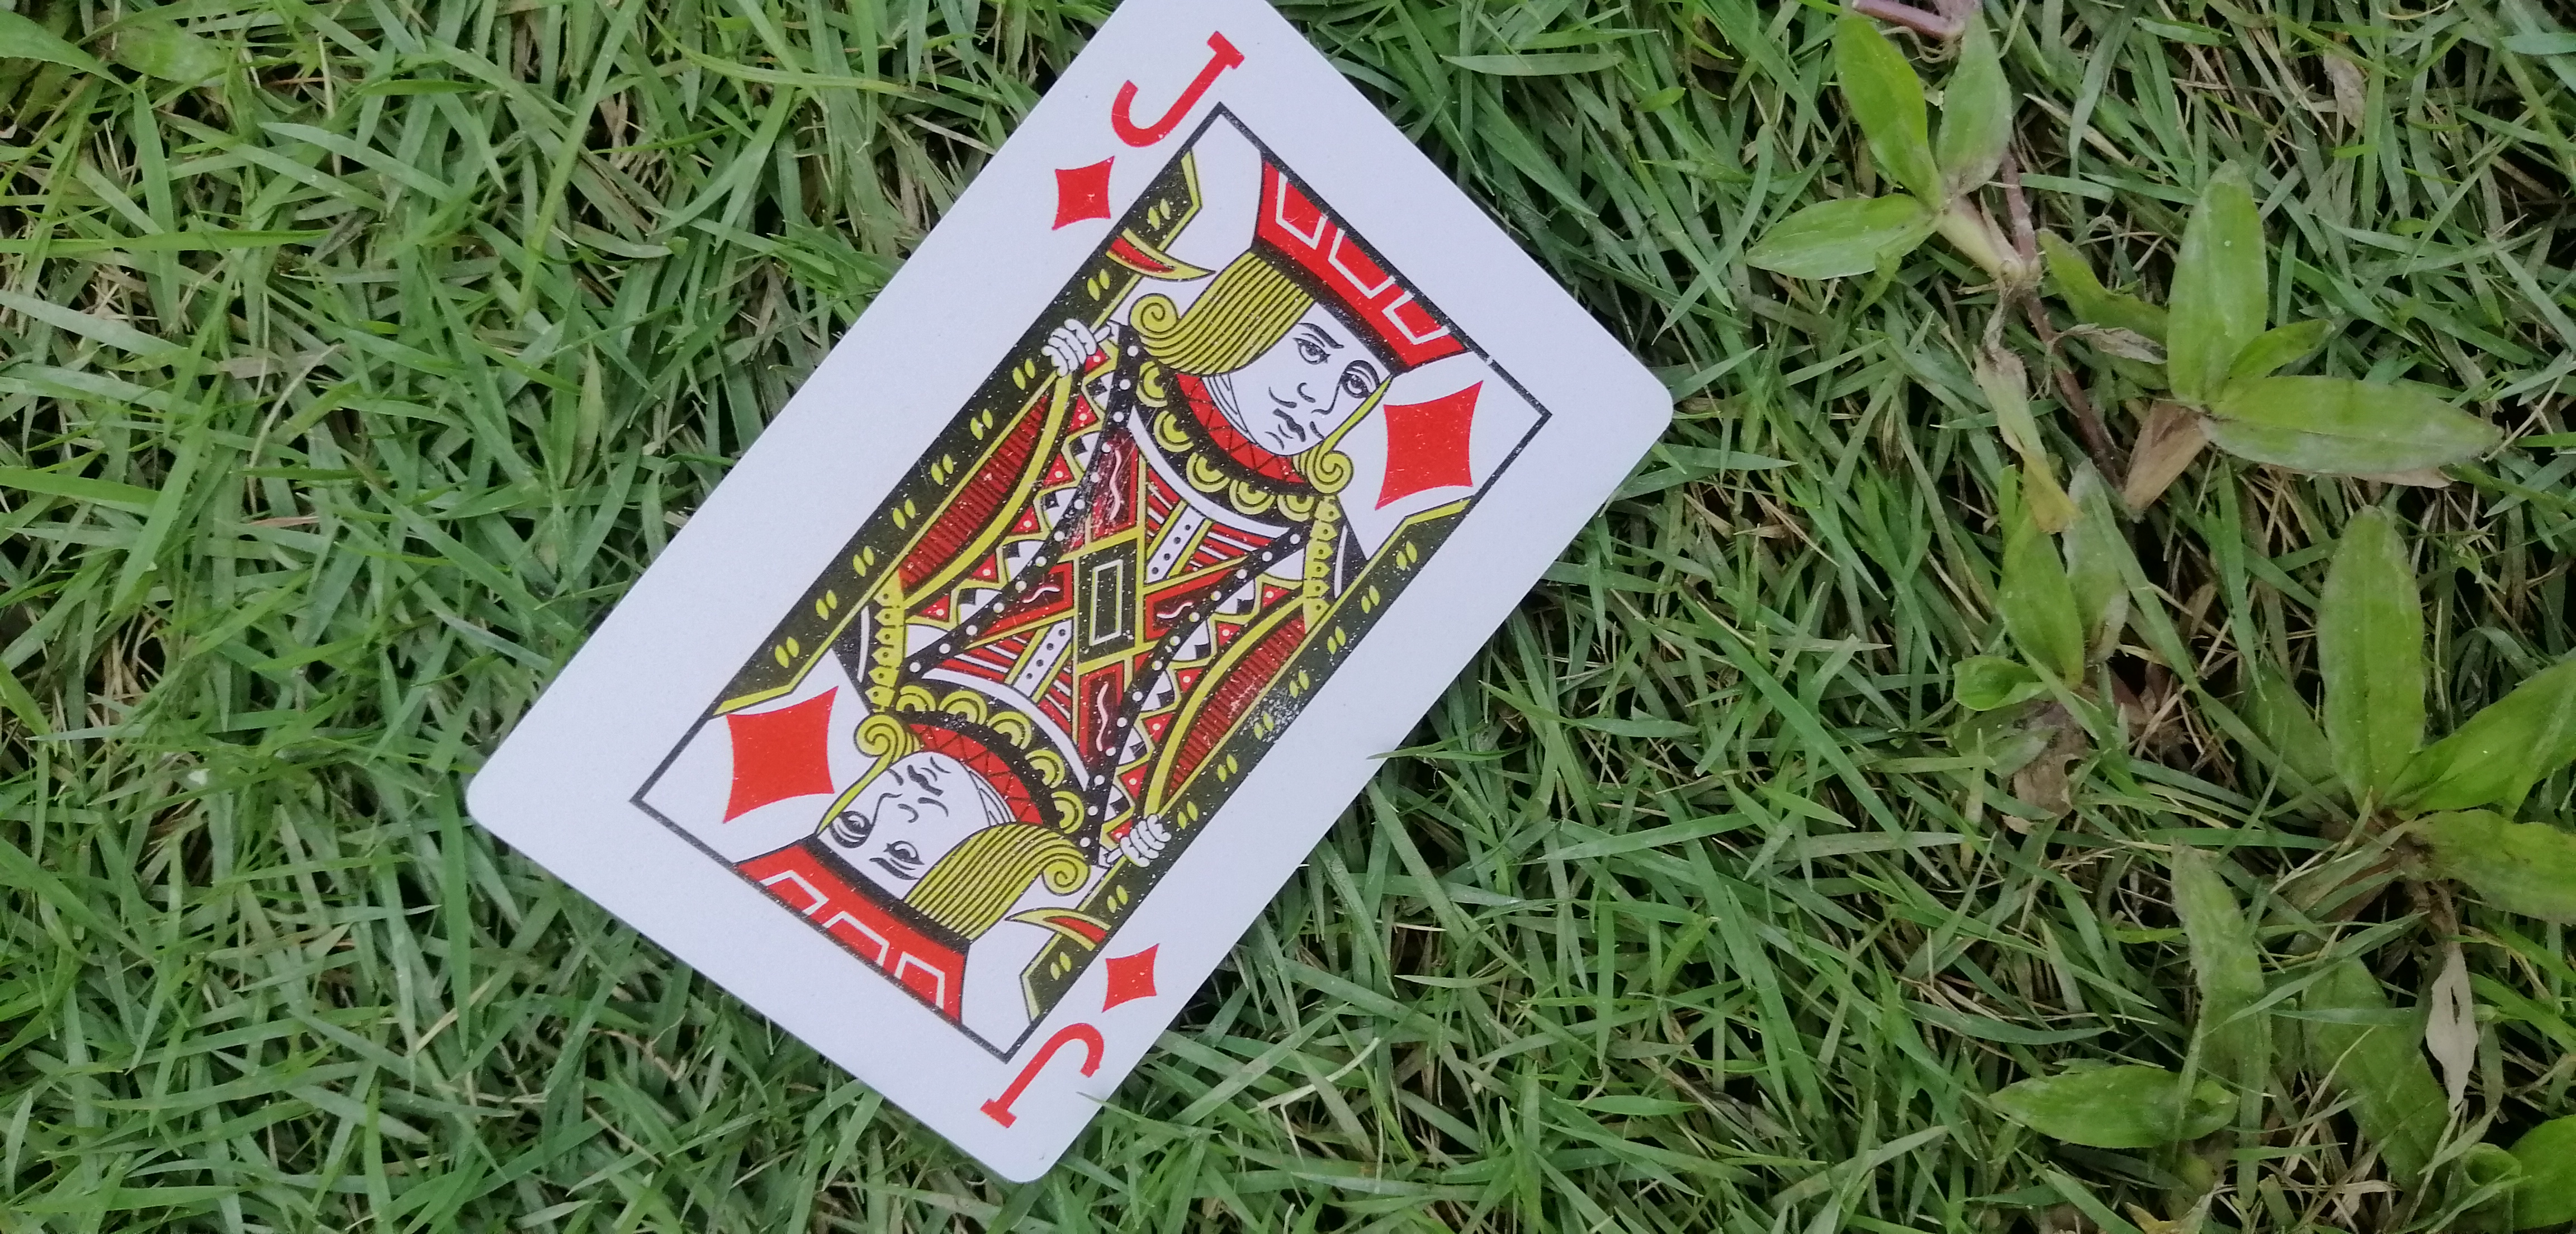jack: (330, 10, 1666, 1199)
